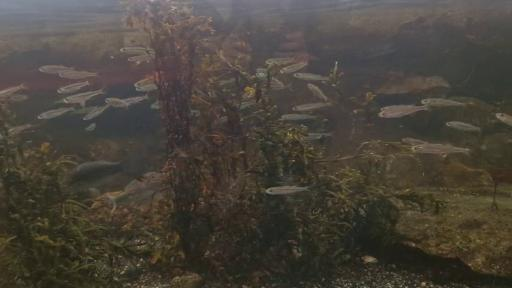Fish: (71, 149, 145, 187), (107, 173, 162, 210), (71, 160, 123, 182), (378, 105, 429, 118), (65, 90, 104, 107), (411, 144, 469, 154), (106, 191, 126, 213), (38, 107, 74, 119), (57, 81, 90, 94), (84, 104, 110, 120), (0, 84, 27, 99), (307, 84, 328, 101), (59, 70, 97, 79), (266, 186, 308, 194), (293, 103, 333, 111), (8, 124, 34, 136), (421, 99, 465, 106), (446, 122, 480, 131), (281, 62, 307, 73), (294, 73, 329, 81), (39, 66, 73, 74), (271, 78, 292, 90), (123, 95, 148, 105), (120, 47, 154, 54), (105, 98, 129, 107), (72, 106, 98, 114), (282, 114, 316, 120), (266, 58, 295, 65), (305, 133, 333, 140), (495, 113, 511, 125), (128, 54, 154, 61), (134, 78, 154, 87), (402, 138, 427, 145), (381, 105, 414, 110), (136, 84, 157, 91), (239, 101, 254, 110), (9, 95, 28, 102), (219, 78, 235, 86), (256, 72, 267, 81), (85, 123, 95, 131), (151, 101, 161, 109), (191, 110, 200, 117), (54, 99, 66, 104), (256, 68, 267, 73)
